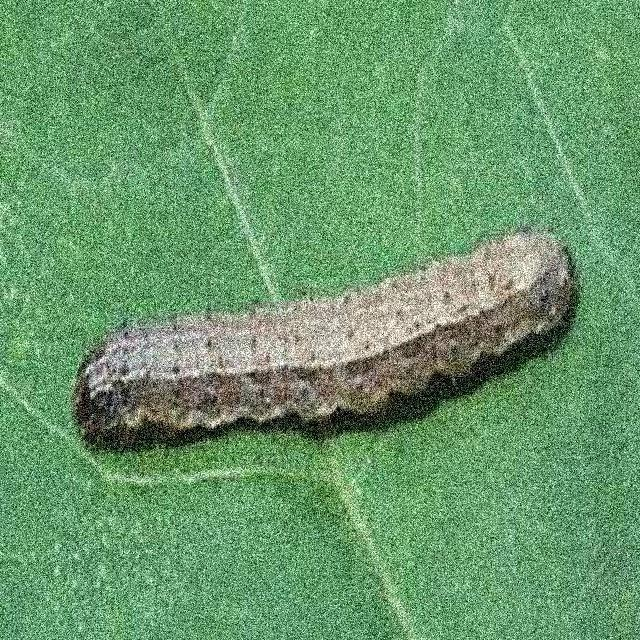worm: (71, 229, 577, 452)
